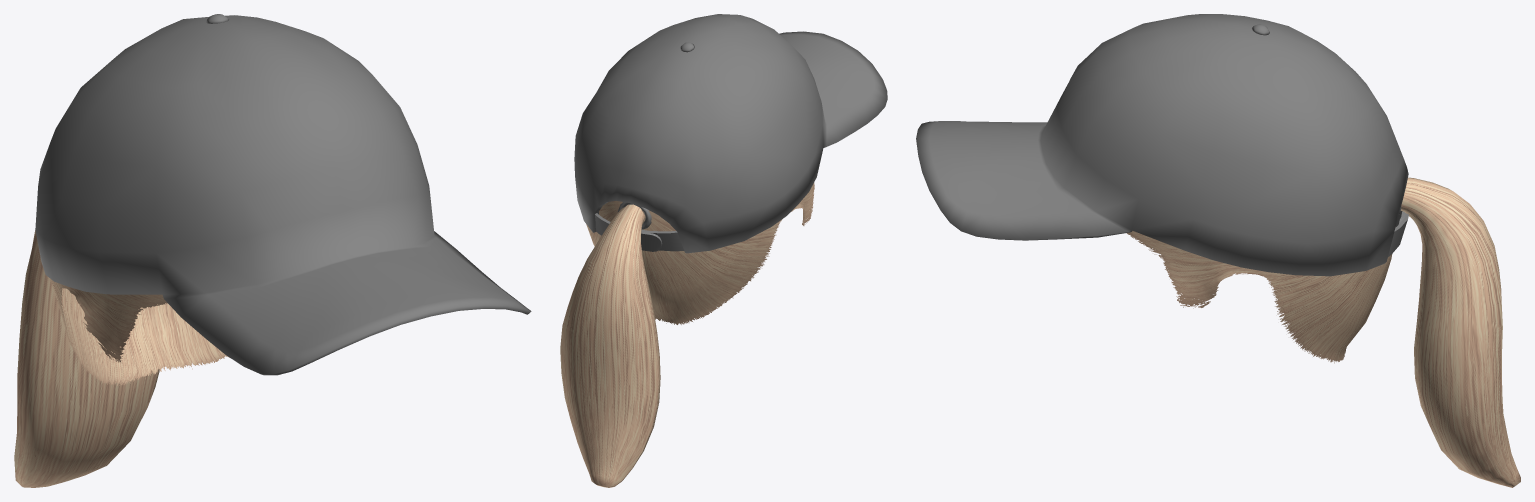
Rendered from BaseballHat_Hair_01.obj.
3 views of the same model, side by side, from view 1: azimuth 30°, elevation 25°; view 2: azimuth 150°, elevation 25°; view 3: azimuth 270°, elevation 25° (orthographic). The views are drawn at different scales.
Visible parts, largest first — view 1: BaseballHat_Hair_01; view 2: BaseballHat_Hair_01; view 3: BaseballHat_Hair_01.
Boxes of the visible parts, box(x1,y1,x2,y2) form: BaseballHat_Hair_01: box(14, 14, 531, 487); BaseballHat_Hair_01: box(560, 14, 887, 487); BaseballHat_Hair_01: box(916, 14, 1520, 487).
Bounding box in the file's own units: 16.51 × 27.73 × 32.46.
Materials: 3 (2 with a texture image).
